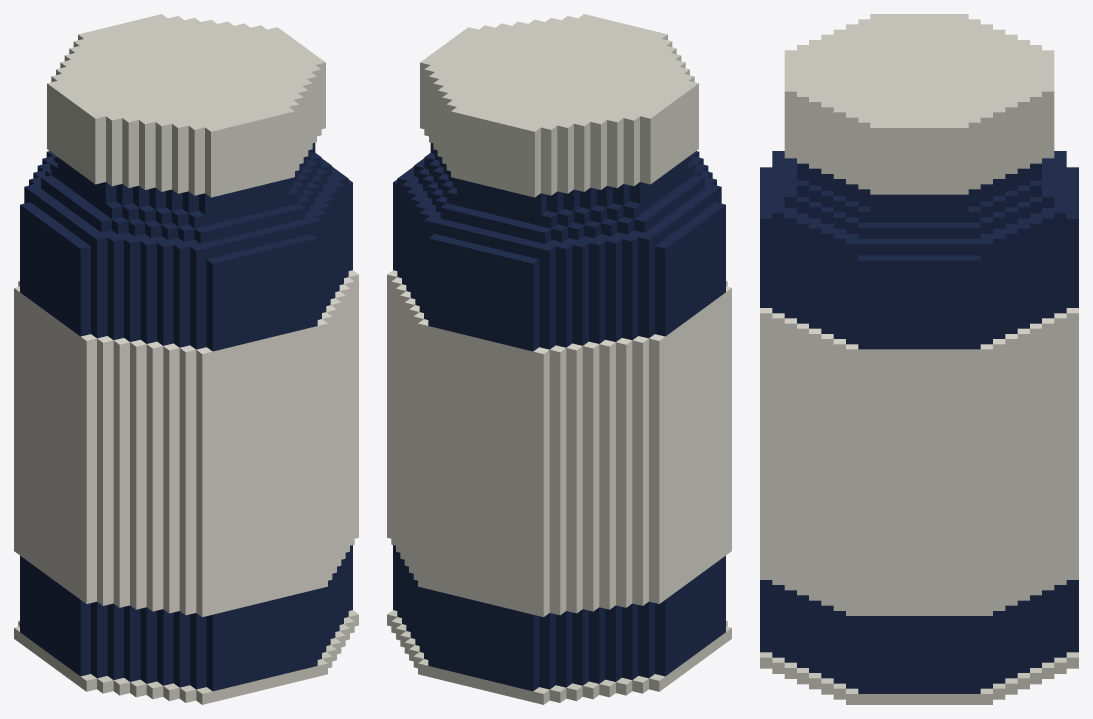
Rendered from melatonin_tablet.glb.
3 views of the same model, side by side, from view 1: azimuth 30°, elevation 25°; view 2: azimuth 150°, elevation 25°; view 3: azimuth 270°, elevation 25° (orthographic).
Visible parts, largest first — view 1: melatonin_tablet:vessel; view 2: melatonin_tablet:vessel; view 3: melatonin_tablet:vessel.
Boxes of the visible parts, x1,y1,x2,y2 form: melatonin_tablet:vessel: (14,14,358,704); melatonin_tablet:vessel: (387,14,731,704); melatonin_tablet:vessel: (760,14,1078,704).
Size of the model in its own units: 0.052 by 0.102 by 0.052.
